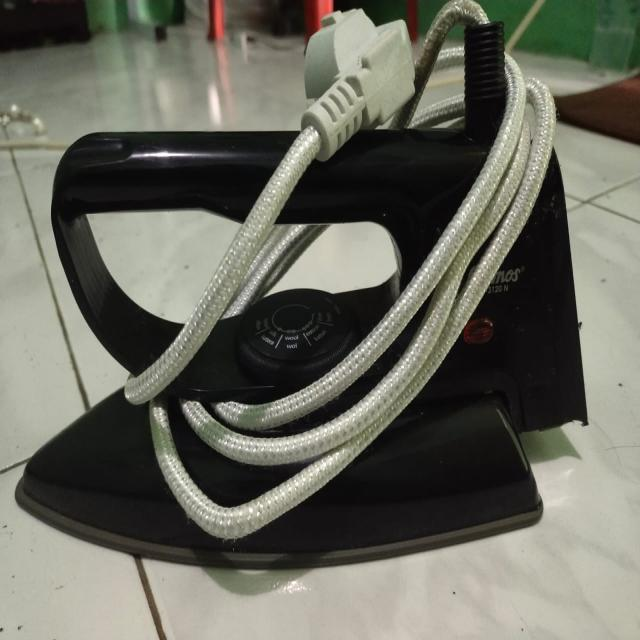setrika: (17, 6, 588, 592)
